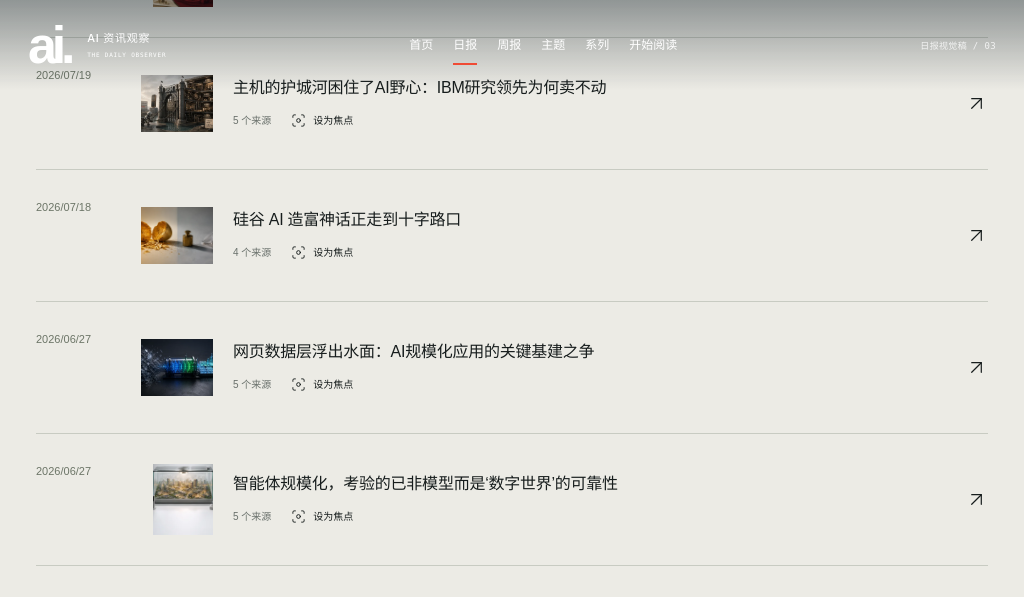
Test: promotes a report outside the default three from the archive with the matching cover and destination
The image size is (1024, 597).
(page scrolled)
What coordinates should you click on to do the following:
click the button "设为焦点" below "网页数据层浮出水面：AI规模化应用的关键基建之争"
I would click on:
 (322, 384)
Its box is [291, 373, 353, 396].
(page scrolled)
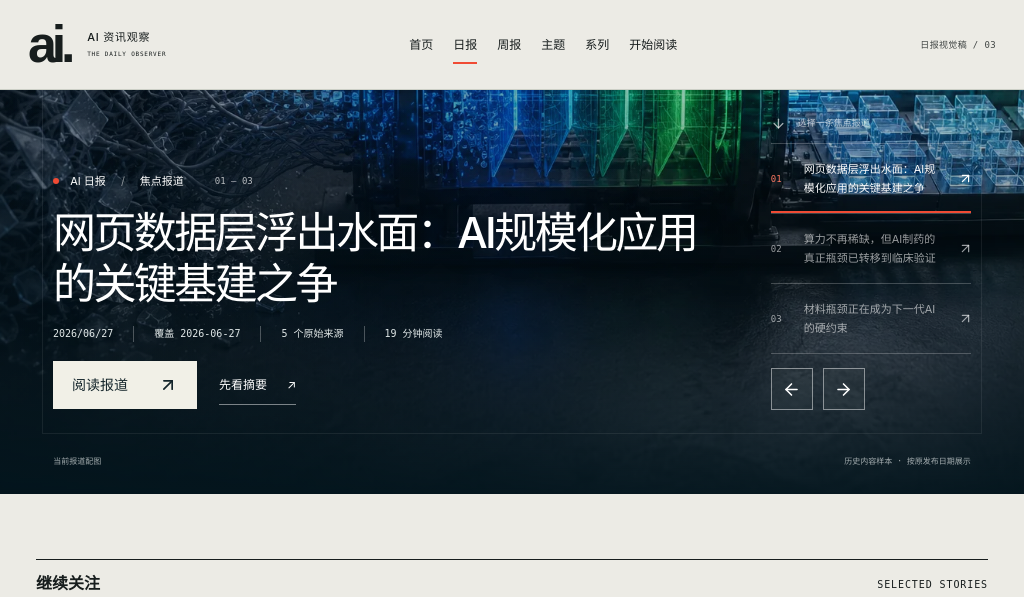
expect the number of buttons named "切换焦点：" is 3: met, box [771, 144, 971, 214]; [771, 214, 971, 284]; [771, 284, 971, 354]
expect the heading "网页数据层浮出水面：AI规模化应用的关键基建之争" is shown: met, box [53, 207, 719, 309]
What coordinates should you click on to do the following:
click the button "先看摘要 ↗"
I would click on:
 (258, 385)
Its box is [219, 365, 296, 405].
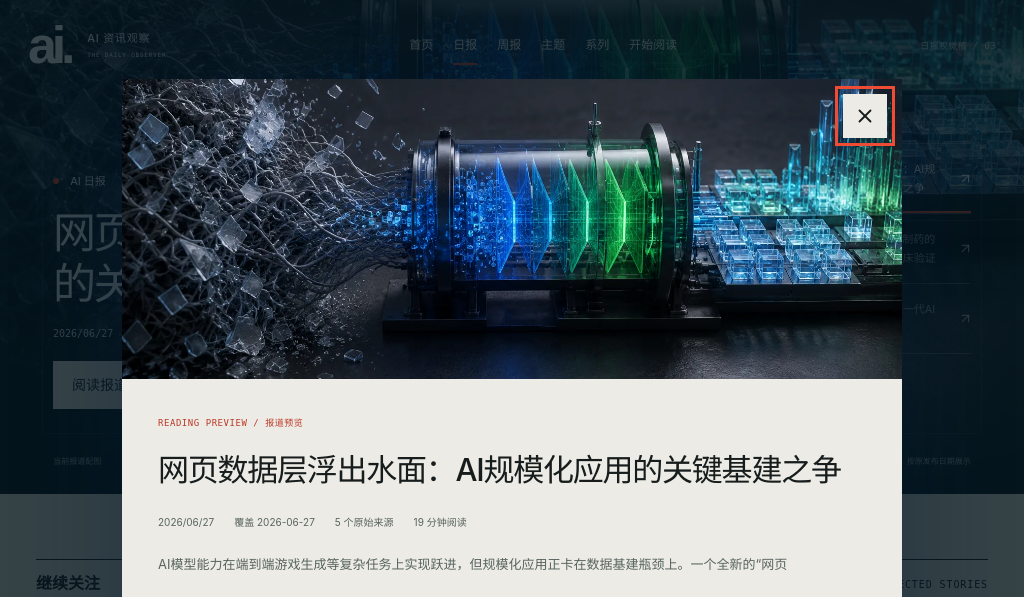
expect the dialog "网页数据层浮出水面：AI规模化应用的关键基建之争" shows "AI模型能力在端到端游戏生成等复杂任务上实现跃进，但规模化应用正卡在数据基建瓶颈上。一个全新的“网页": met, box [158, 556, 787, 572]
